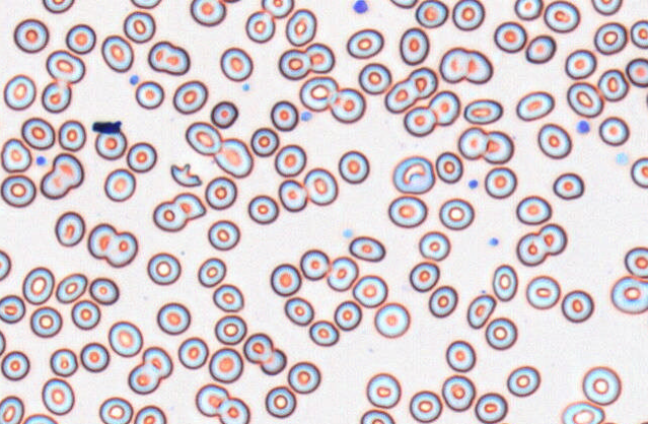PLT: (353, 0, 370, 15), (576, 120, 592, 135), (614, 152, 630, 166), (467, 178, 479, 190), (302, 111, 313, 123), (129, 72, 139, 85), (488, 237, 499, 248), (35, 156, 47, 166), (242, 83, 249, 90)
RBC: (87, 222, 138, 268), (516, 222, 567, 266), (152, 191, 206, 232), (39, 152, 84, 199), (438, 46, 493, 84), (391, 155, 434, 194), (213, 137, 253, 178), (581, 365, 622, 405), (147, 40, 190, 75), (610, 275, 647, 314), (299, 75, 339, 111), (91, 120, 127, 160), (566, 81, 604, 118), (373, 301, 410, 338), (328, 87, 366, 123), (45, 49, 85, 83), (107, 320, 143, 357), (303, 167, 338, 205), (387, 195, 427, 228), (365, 372, 401, 408), (537, 122, 572, 159), (184, 121, 222, 155), (100, 34, 134, 72), (21, 266, 54, 305), (208, 347, 243, 383), (172, 79, 208, 114), (13, 18, 49, 53), (441, 374, 475, 411), (41, 377, 74, 415), (525, 274, 560, 309), (219, 46, 253, 82), (3, 73, 36, 110), (543, 0, 580, 33), (285, 8, 317, 46), (346, 27, 384, 59), (515, 90, 554, 121), (384, 78, 418, 113), (146, 251, 181, 285), (427, 89, 460, 125), (352, 274, 388, 307), (0, 174, 36, 207), (438, 197, 474, 230), (398, 27, 429, 65), (195, 383, 229, 417), (287, 360, 321, 394), (156, 301, 190, 335), (593, 21, 627, 55), (204, 175, 237, 210), (103, 167, 136, 202), (20, 116, 55, 149), (326, 255, 358, 291), (54, 210, 85, 247), (493, 20, 527, 53), (484, 316, 517, 350), (408, 389, 442, 422), (561, 289, 594, 323), (337, 149, 369, 184), (515, 194, 551, 225), (484, 166, 517, 199), (29, 305, 62, 338), (482, 130, 514, 164), (274, 143, 306, 177), (269, 262, 301, 296), (506, 365, 540, 397), (0, 137, 31, 172), (127, 362, 160, 394), (358, 62, 391, 94), (207, 219, 240, 251), (264, 385, 296, 418), (123, 10, 155, 43), (597, 68, 629, 101), (457, 126, 488, 160), (40, 79, 71, 113), (451, 0, 485, 31), (474, 392, 508, 423), (463, 98, 502, 125), (491, 263, 518, 301), (278, 48, 310, 80), (242, 332, 274, 364), (403, 106, 436, 137), (214, 314, 247, 345), (177, 336, 208, 369), (445, 339, 476, 372), (245, 9, 275, 43), (428, 284, 458, 318), (561, 400, 605, 423), (348, 235, 385, 262), (299, 248, 330, 280), (126, 141, 157, 173), (418, 230, 450, 261), (55, 272, 87, 303), (564, 48, 596, 79), (189, 0, 226, 26), (408, 261, 439, 292), (70, 299, 101, 330), (65, 23, 96, 54), (598, 115, 629, 146), (142, 346, 172, 378), (247, 194, 279, 224), (408, 66, 437, 99), (278, 179, 307, 212), (414, 0, 448, 28), (98, 396, 133, 423), (305, 42, 335, 73), (525, 34, 556, 64), (0, 350, 30, 381), (79, 341, 109, 372), (212, 283, 244, 312), (57, 119, 86, 151), (552, 171, 584, 200), (250, 126, 279, 157), (197, 256, 226, 287), (333, 300, 362, 331), (270, 99, 298, 131), (435, 151, 463, 183), (217, 396, 250, 423), (89, 276, 119, 305), (284, 296, 314, 325), (49, 347, 78, 377), (134, 80, 164, 109), (308, 319, 339, 346), (210, 100, 238, 128), (624, 246, 647, 280), (260, 347, 286, 375), (0, 294, 25, 323), (0, 395, 24, 423), (625, 57, 647, 87), (133, 404, 166, 423), (513, 0, 543, 20), (261, 0, 294, 18), (630, 156, 647, 188), (359, 408, 395, 423), (630, 19, 647, 49), (591, 0, 622, 15), (42, 0, 74, 13), (22, 413, 58, 423), (0, 249, 11, 281), (130, 0, 161, 9), (389, 0, 417, 8), (0, 329, 6, 355), (645, 87, 648, 110), (221, 0, 241, 3)
Schistocyte: (466, 295, 497, 330), (169, 163, 202, 187)
